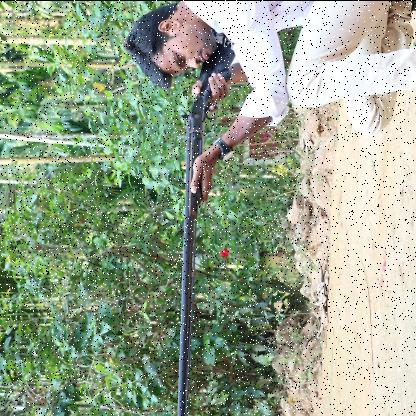rifle: (176, 30, 237, 416)
